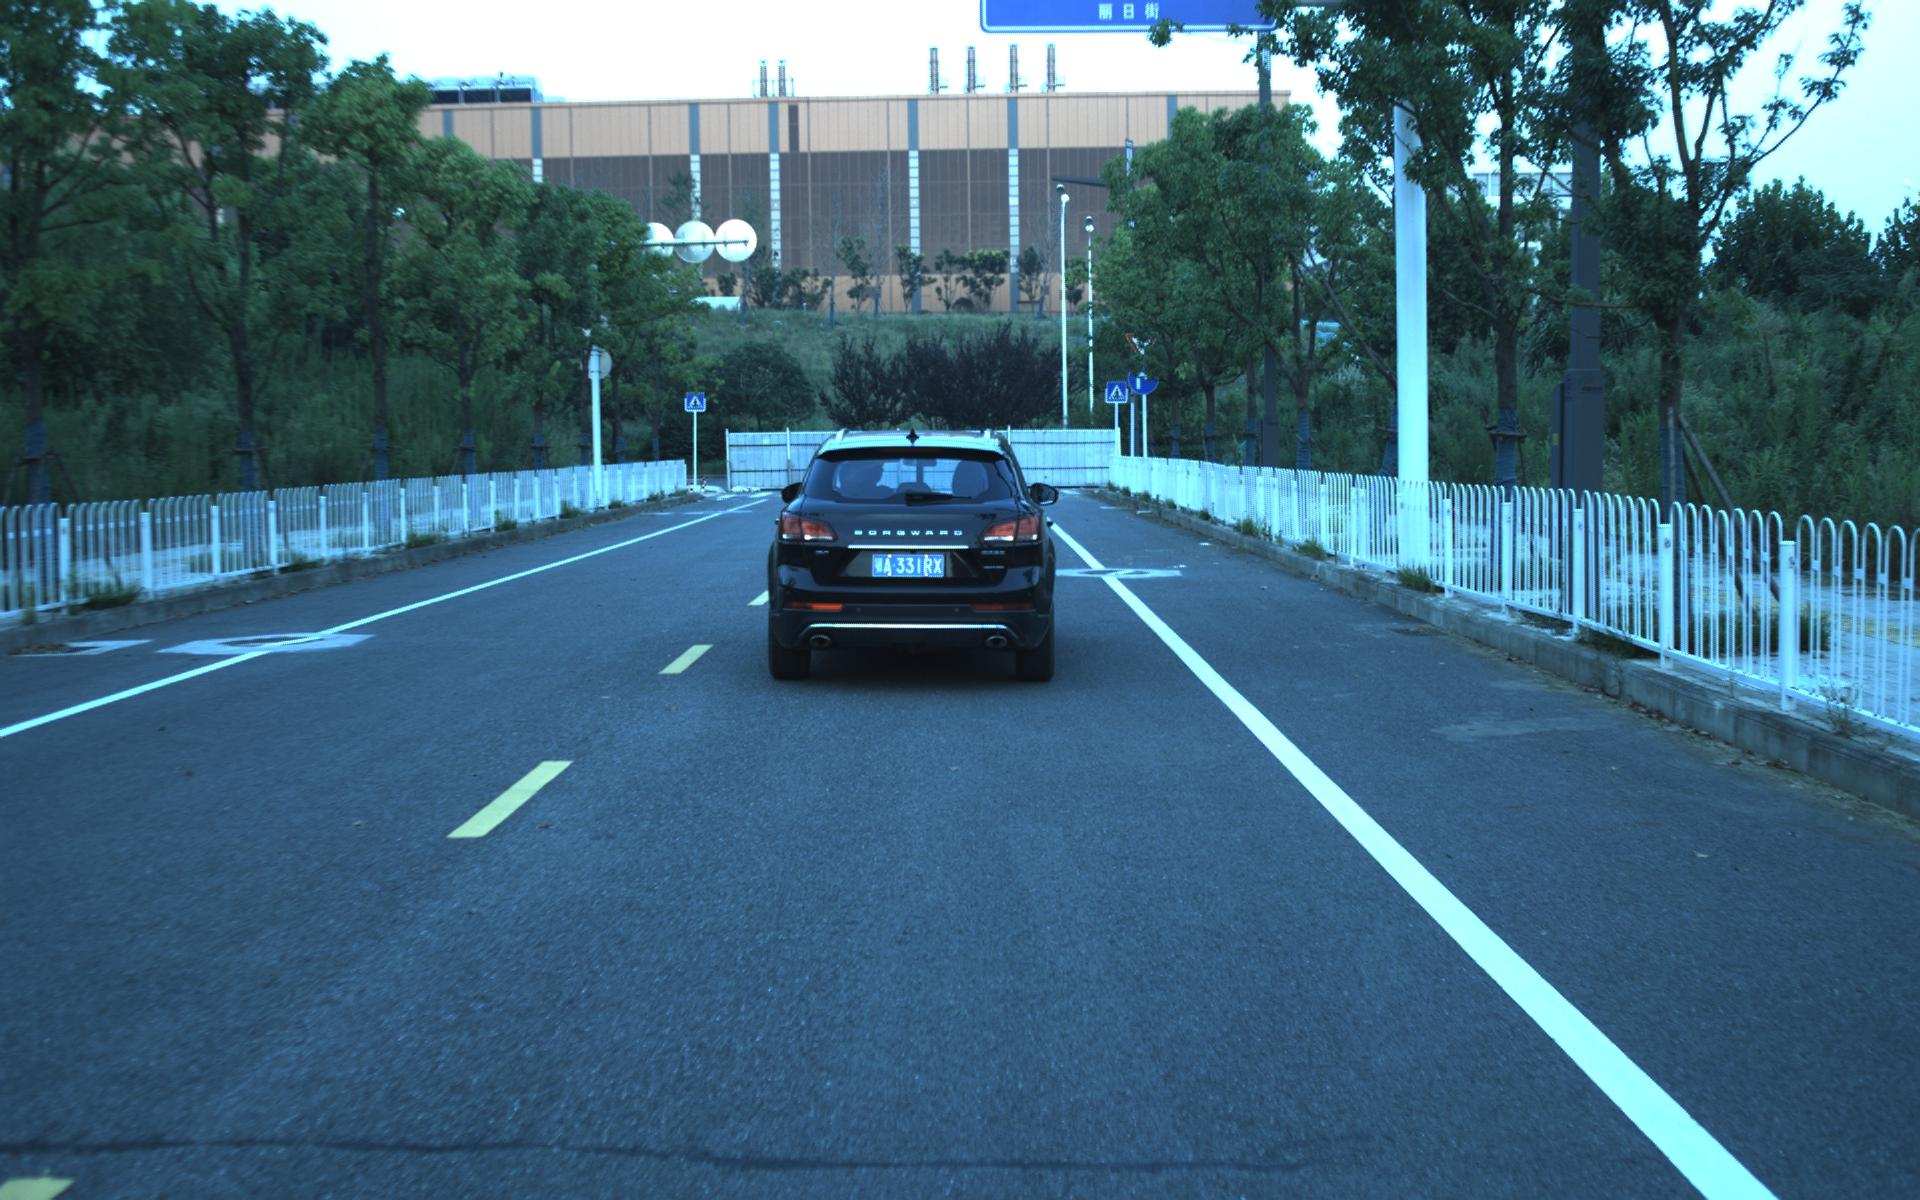Car: (764, 422, 1057, 683)
